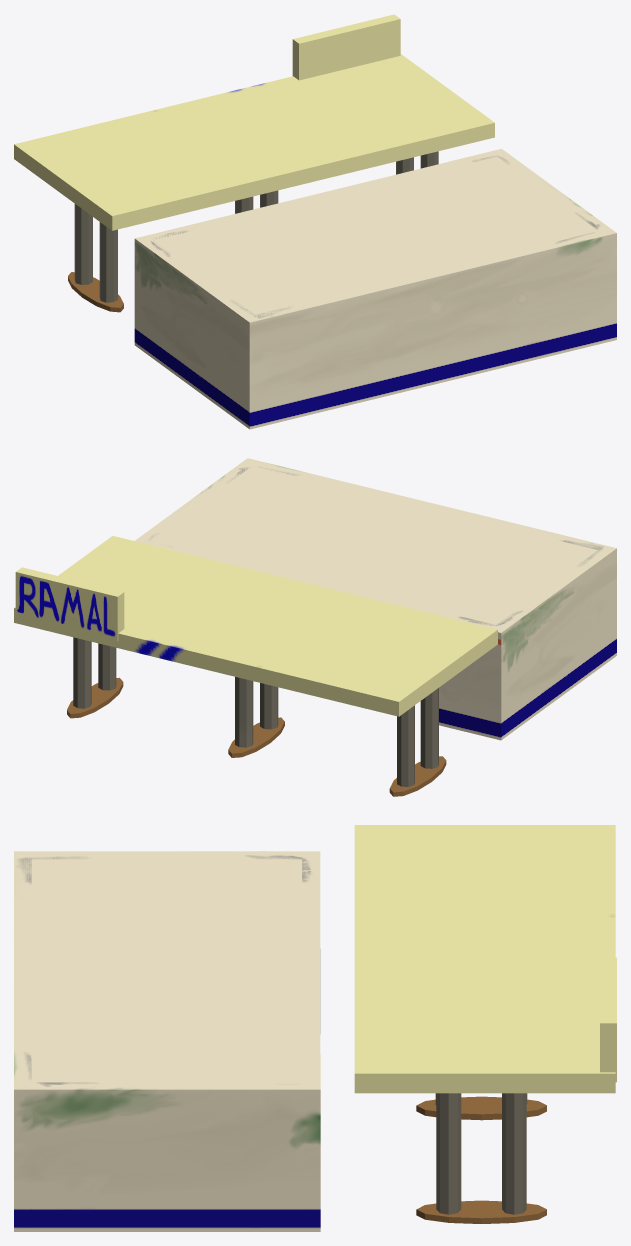
Rendered from posto.fbx.
The picture shows the model from 3 angles, top to bottom: view 1: azimuth 30°, elevation 25°; view 2: azimuth 150°, elevation 25°; view 3: azimuth 270°, elevation 25°; orthographic projection. The views are drawn at different scales.
Parts seen in each view (by area): view 1: Cube.002, Cube.001, Cube.003, Cylinder; view 2: Cube.002, Cube.001, Cylinder, Cube.003; view 3: Cube.002, Cube.001, Cylinder, Cube.003.
Boxes of the visible parts, bbox=[...] form: Cube.002: bbox=[134, 148, 616, 429]; Cube.001: bbox=[14, 54, 494, 230]; Cube.003: bbox=[292, 14, 400, 80]; Cylinder: bbox=[68, 151, 438, 312]; Cube.002: bbox=[135, 458, 616, 740]; Cube.001: bbox=[14, 536, 497, 716]; Cylinder: bbox=[67, 637, 446, 796]; Cube.003: bbox=[15, 567, 124, 641]; Cube.002: bbox=[14, 851, 320, 1231]; Cube.001: bbox=[354, 825, 615, 1093]; Cylinder: bbox=[416, 1093, 546, 1223]; Cube.003: bbox=[600, 957, 616, 1082].
Size of what is drawn, in the model's own units: 4104 by 1626 by 4209.
4 materials, 4 textured.
